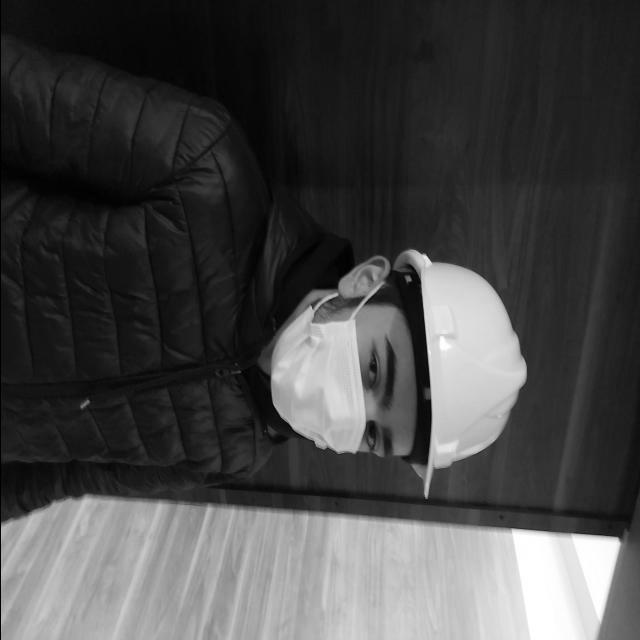construction helmet: (393, 250, 525, 494)
